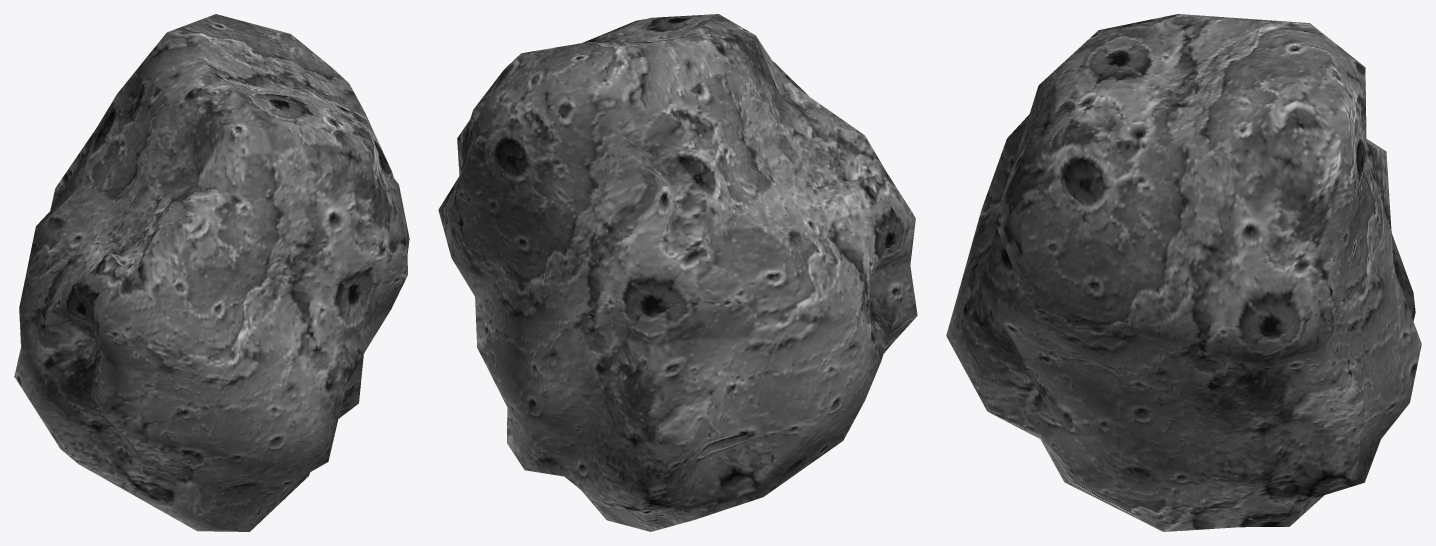
Rendered from asteroid_01.glb.
The picture shows the model from 3 angles, left to right: view 1: azimuth 30°, elevation 25°; view 2: azimuth 150°, elevation 25°; view 3: azimuth 270°, elevation 25°; orthographic projection. The views are drawn at different scales.
Visible parts, largest first — view 1: Mesh_0.008; view 2: Mesh_0.008; view 3: Mesh_0.008.
Boxes of the visible parts, x1,y1,x2,y2 form: Mesh_0.008: (14, 14, 409, 531); Mesh_0.008: (438, 14, 917, 531); Mesh_0.008: (946, 14, 1421, 531).
Bounding box in the file's own units: 0.3612 × 0.4133 × 0.3538.
Materials: 1 (1 with a texture image).
